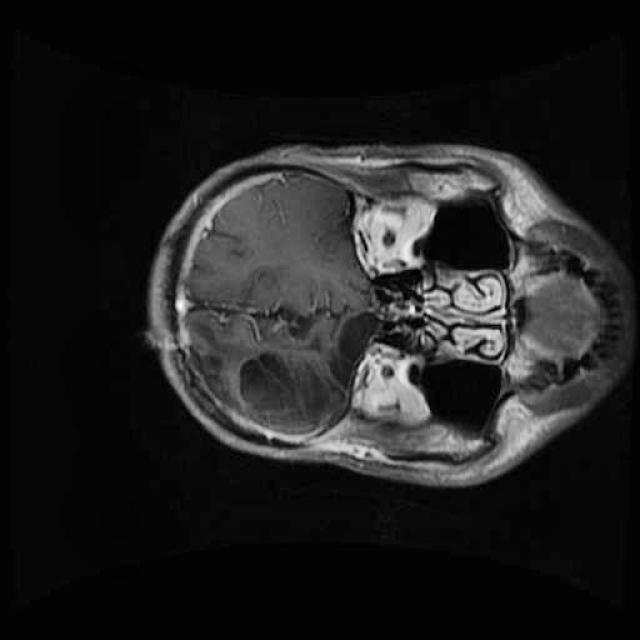Non-Tumor: (226, 296, 389, 448)
